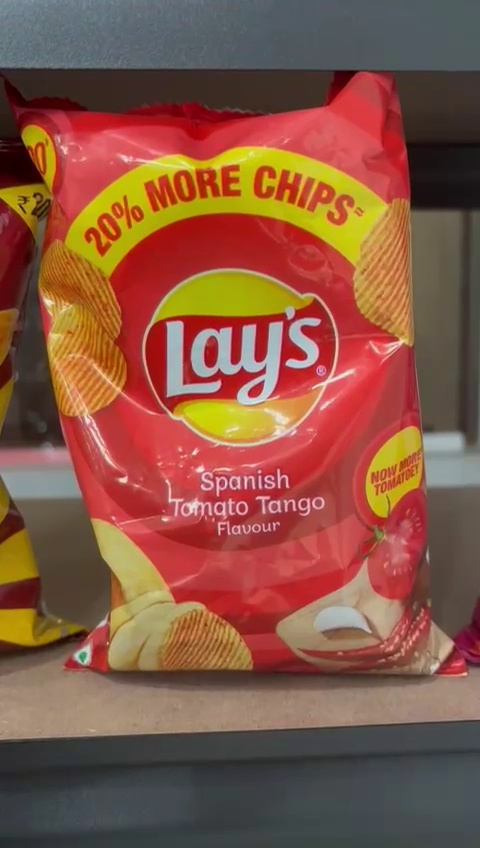Lays: (21, 104, 446, 679)
